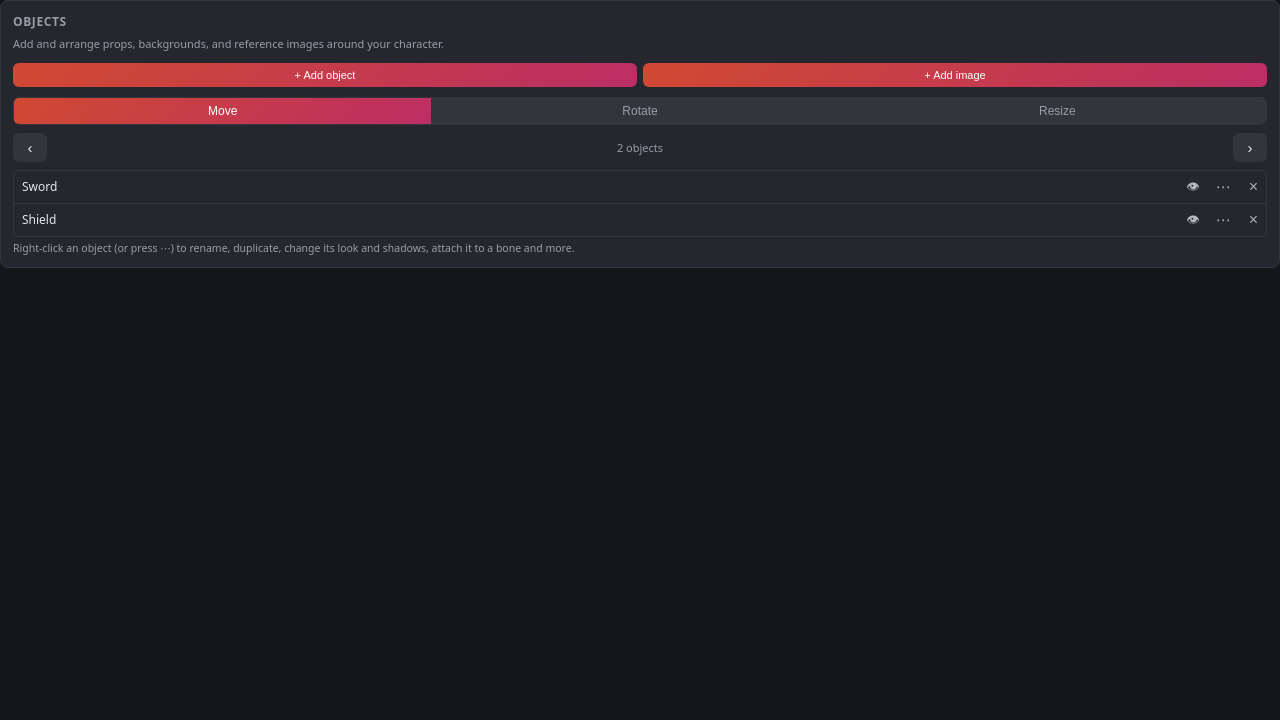
Objects list menu › the ⋯ button opens the same menu
Step 1. Click the button named "More options" → point(1223, 220), box [1214,212,1233,227]
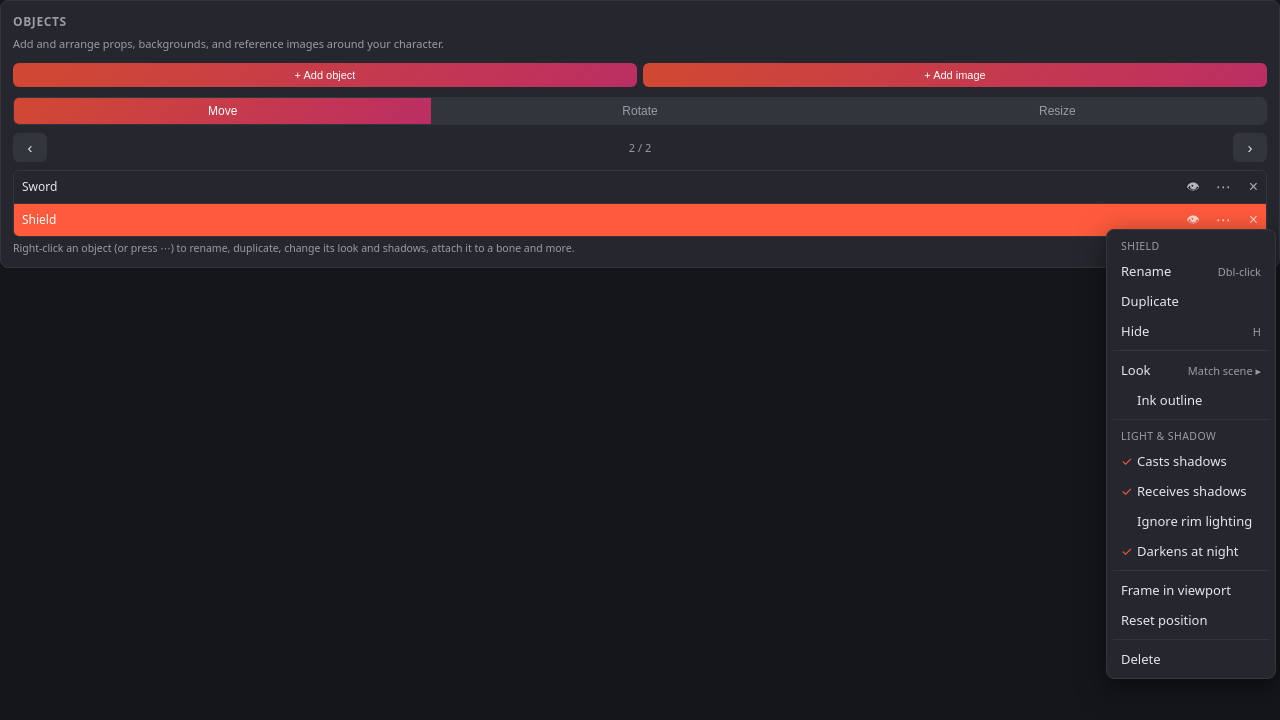
expect the menu item "Reset position" is shown: met, box [1111,605,1271,635]
